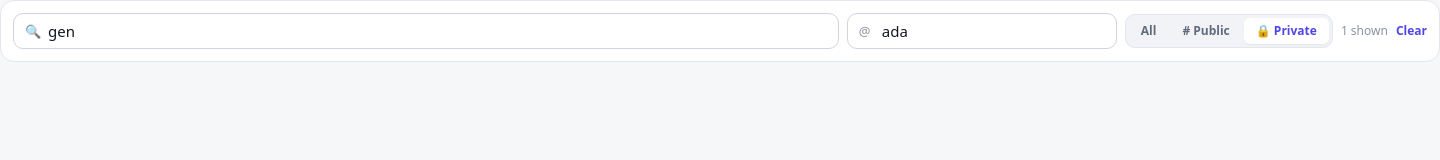
Test case: ChannelFilters › resets every control at once
Click the button "Clear". click: (1411, 31)
box: top-left (1396, 22), bottom-right (1427, 40)
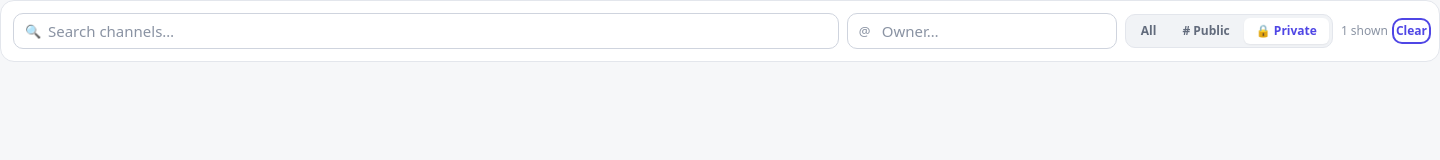
Expected: the search field named "Search channels by name" is empty, top-left (13, 13), bottom-right (839, 49)
Expected: the search field named "Filter by owner username" is empty, top-left (847, 13), bottom-right (1117, 49)
